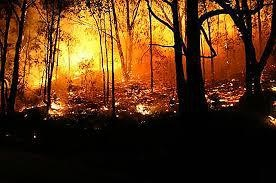fire: (10, 0, 188, 123)
